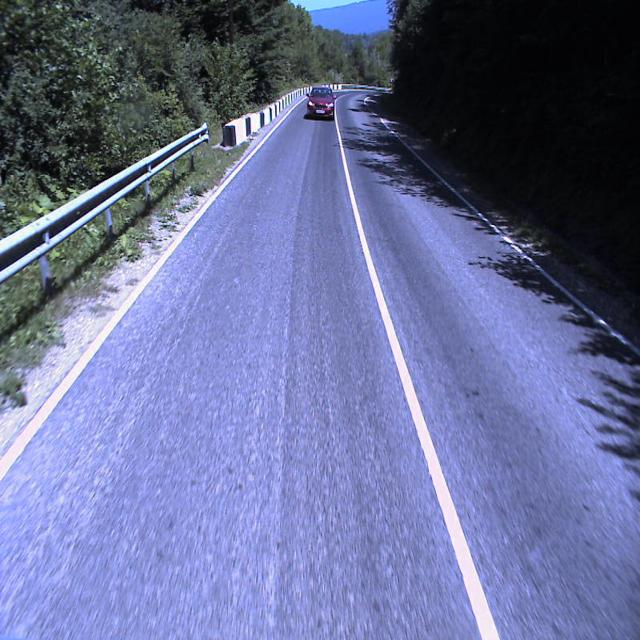road: (0, 89, 640, 639)
